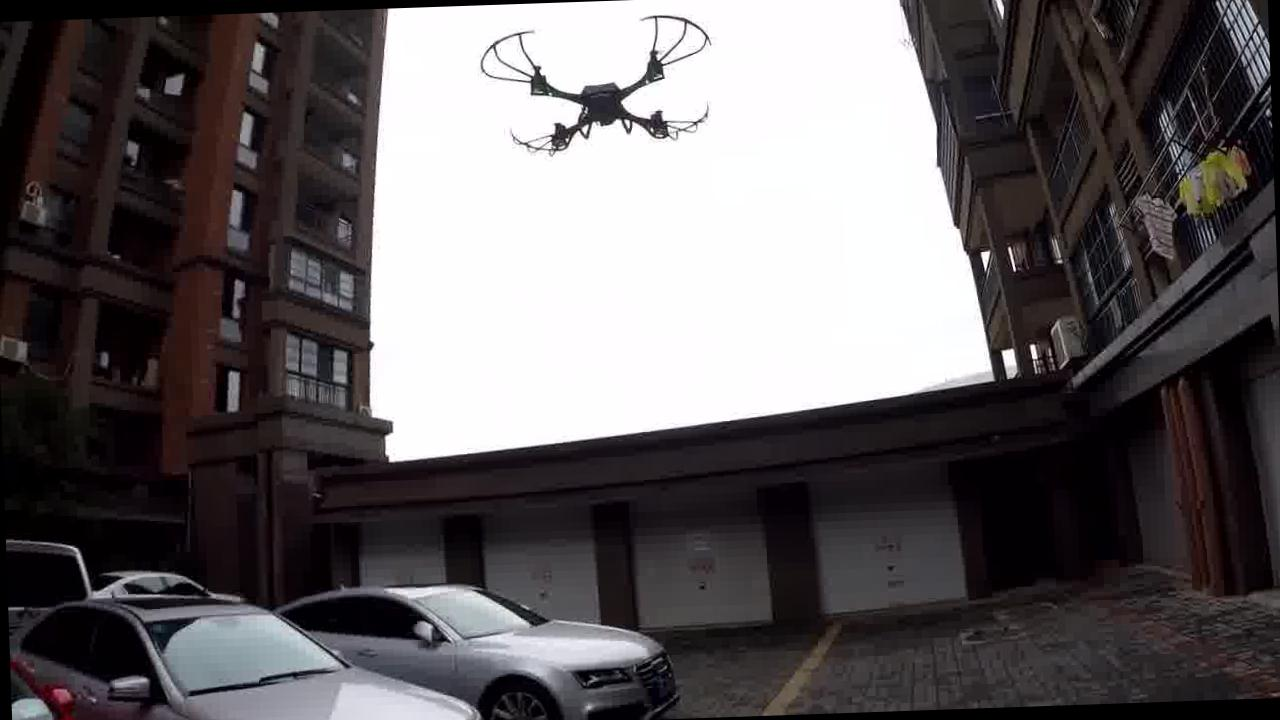drone: (481, 0, 718, 187)
